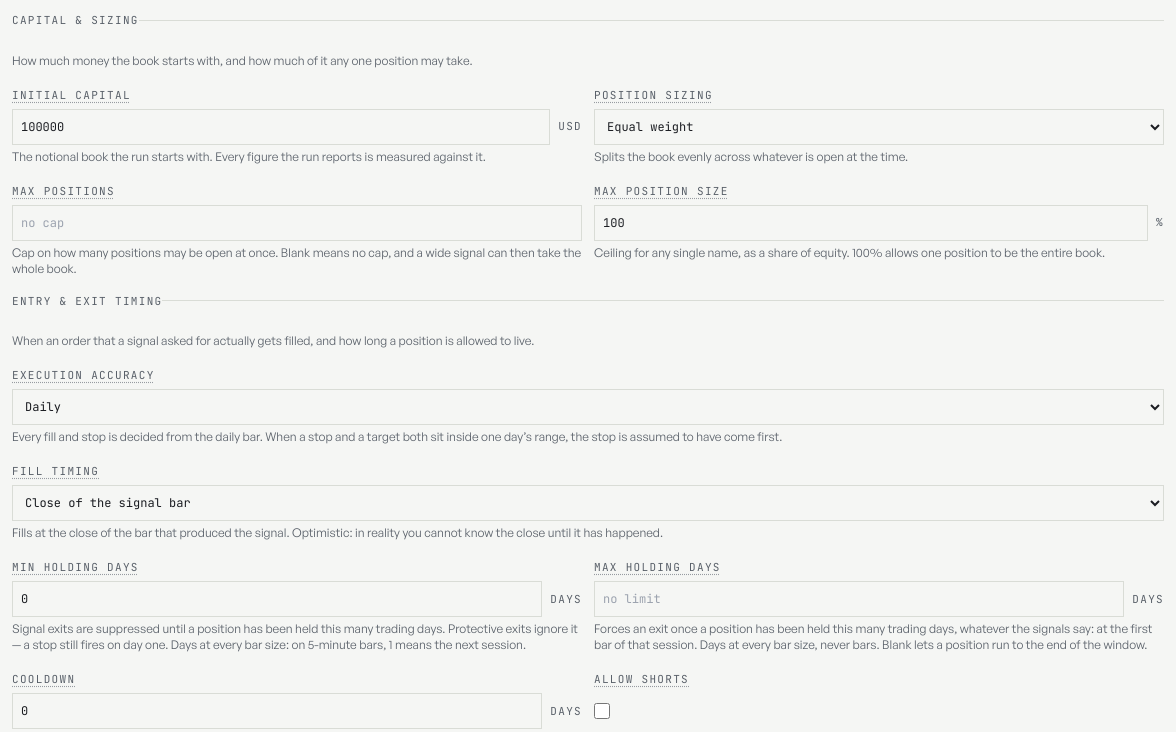
Test: ExecutionForm › hides the sizing value under equal weight, which does not read it
Select "Fixed fraction of equity" in the dropdown labelled "Position sizing" at (879, 126), box x1=594 y1=108 x2=1164 y2=144
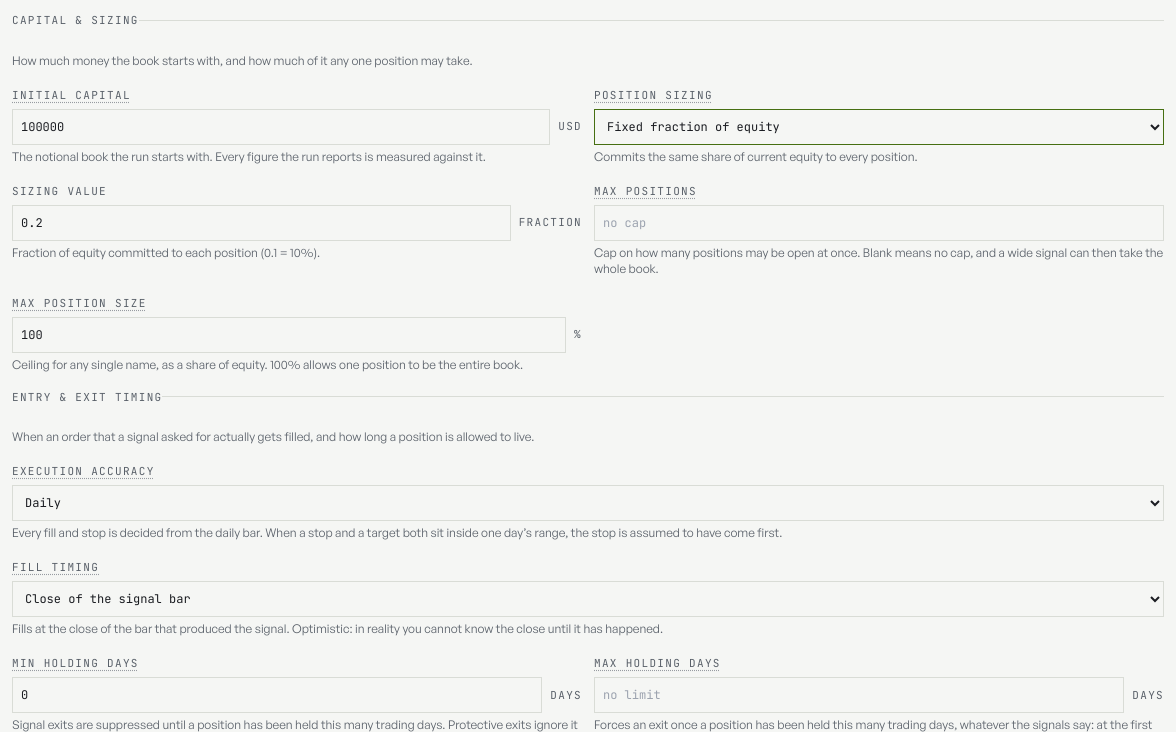
Expected: the number field with test id "execution-sizing-value" is shown, x1=12 y1=204 x2=511 y2=240
